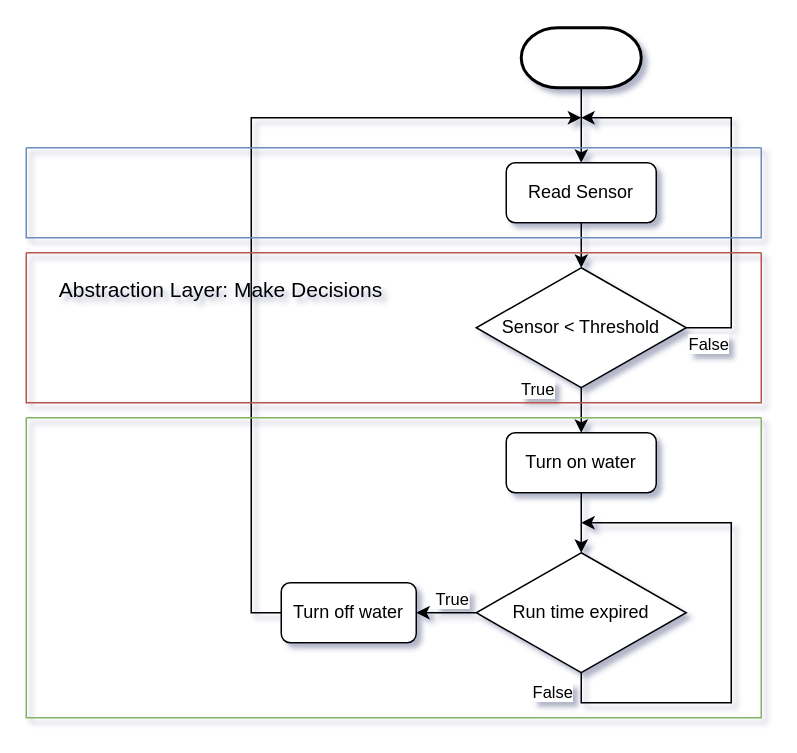
This 797x753 diagram has some shape labels left out. The box of each missing label's shape, as (x1, y1, x2, y2) in pixels:
Abstraction Layer: Collect & Process Data: (25, 146, 761, 238)
Abstraction Layer: Control the System: (25, 416, 761, 718)
Begin: (519, 26, 642, 88)
